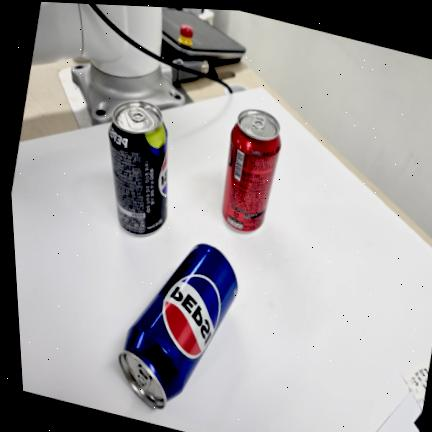can_coke_zero: (222, 109, 281, 232)
can_pepsi: (119, 244, 238, 409)
can_pepsi_zero: (109, 102, 168, 235)
